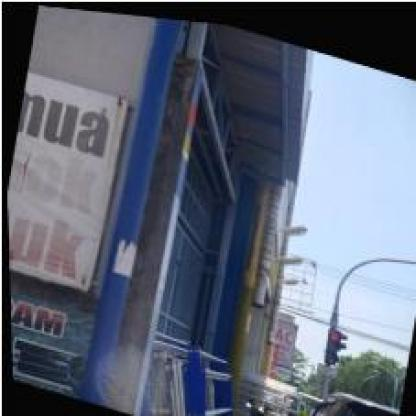red: (320, 321, 344, 361)
